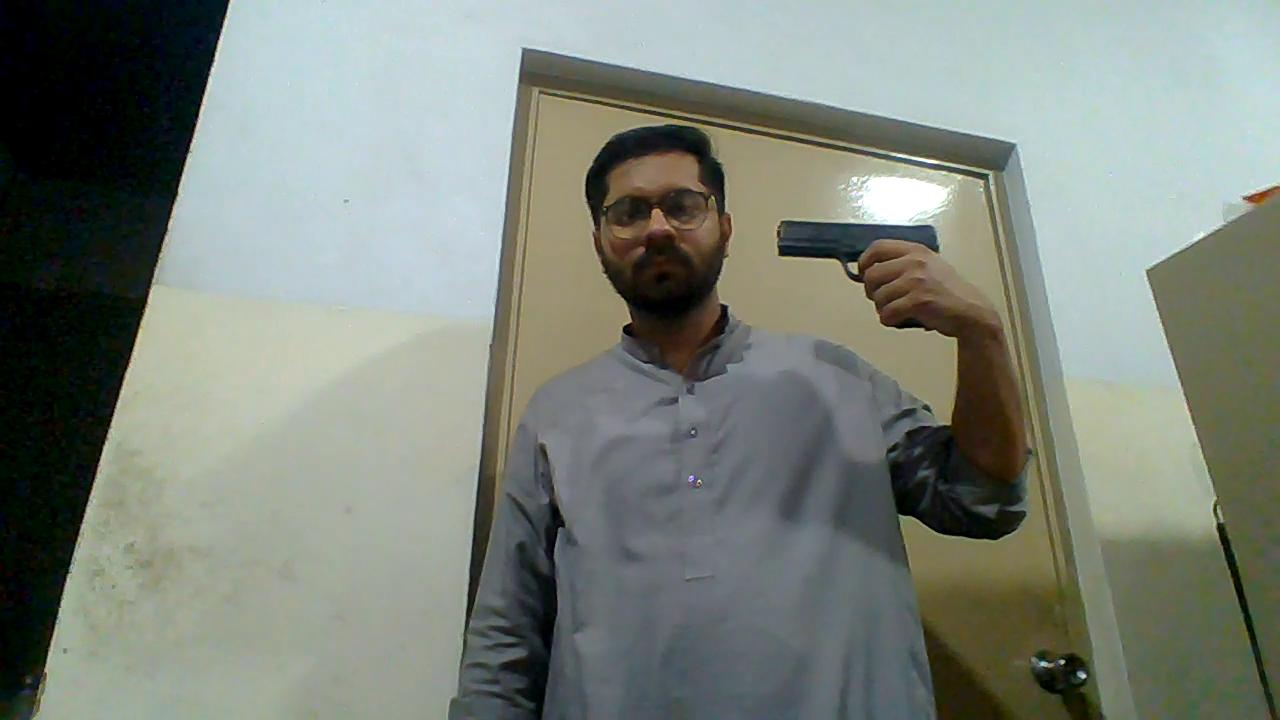criminal: (446, 122, 1039, 720)
weapon: (773, 216, 943, 283)
